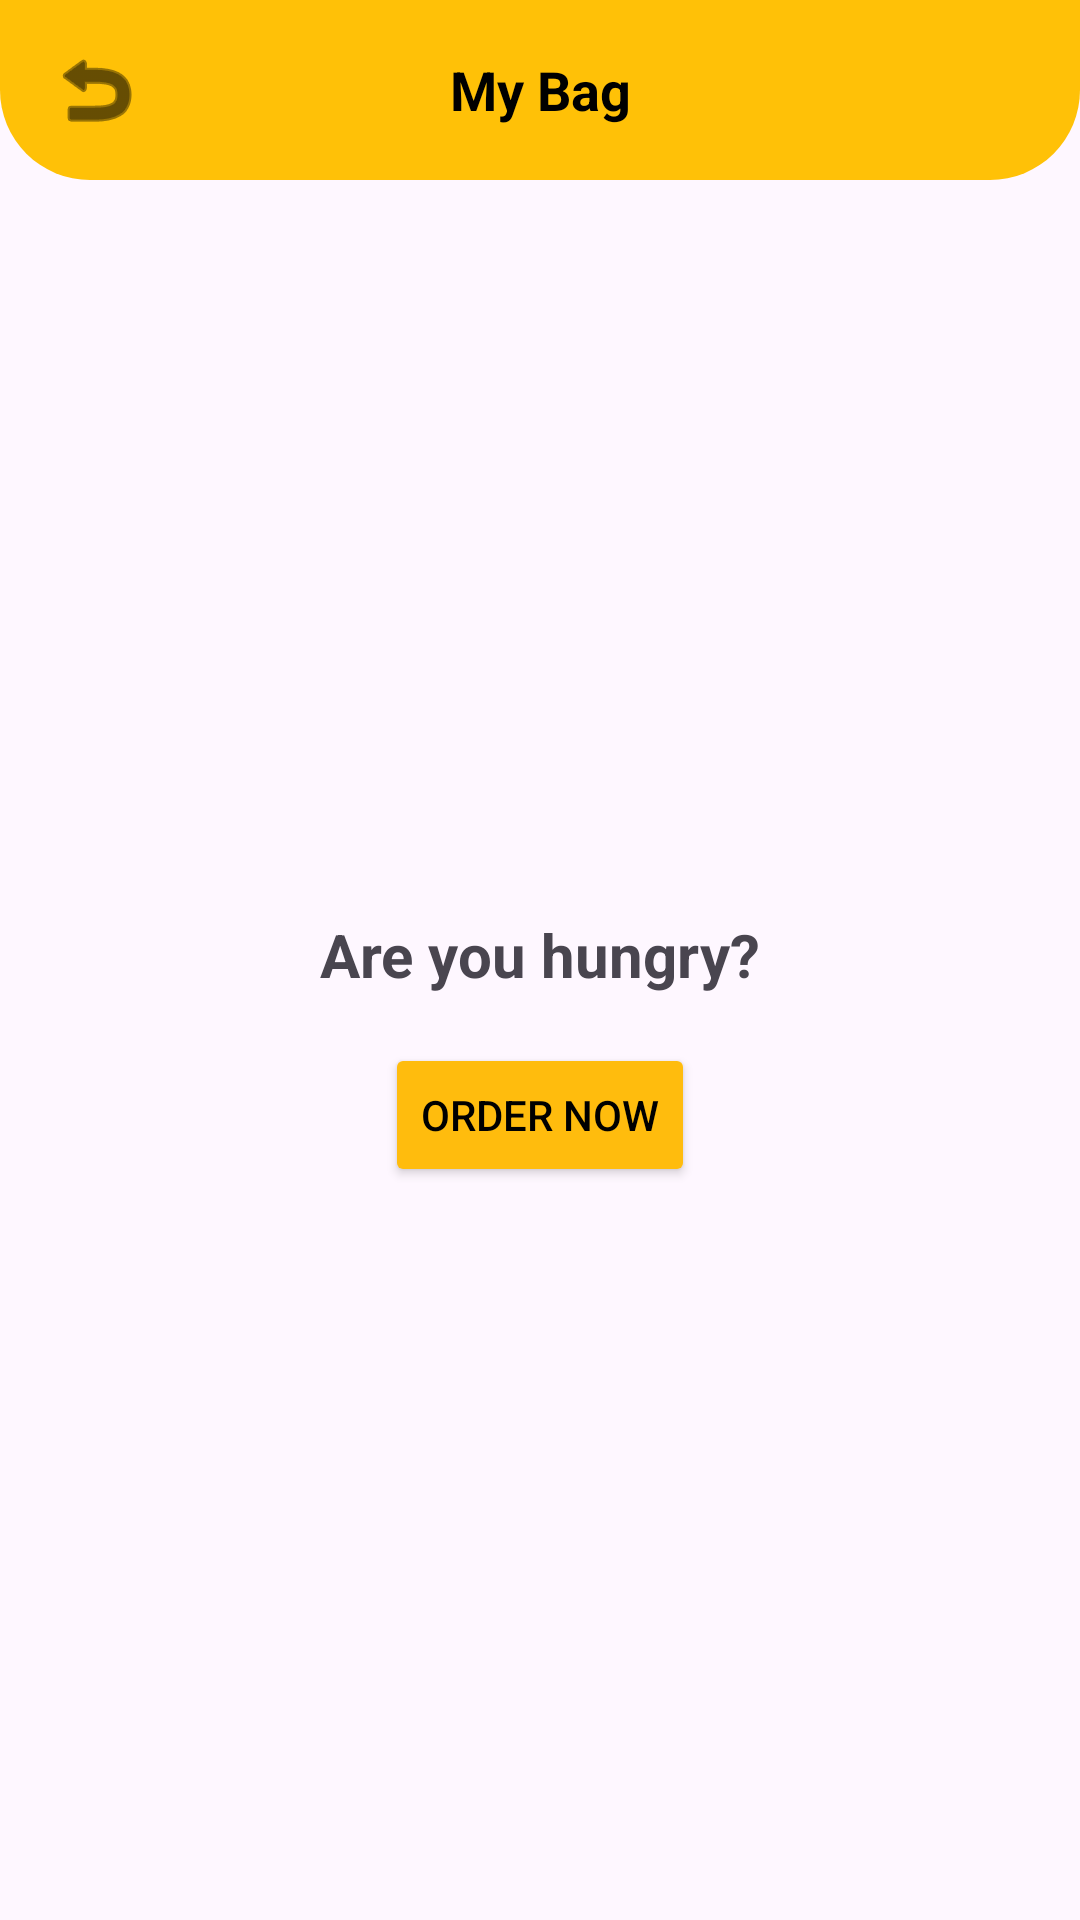

Named icons in this screenshot (1080×1920) and their centers, (x,y):
Back: (97,90)
